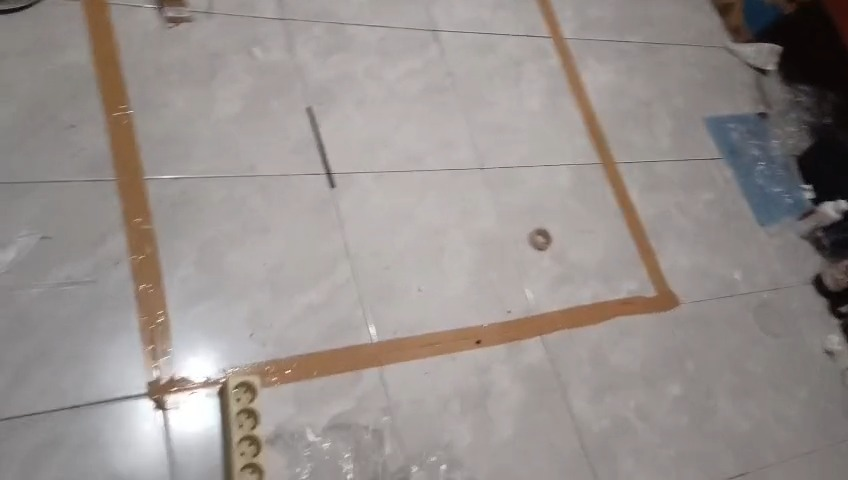floor marking: (82, 0, 679, 399)
